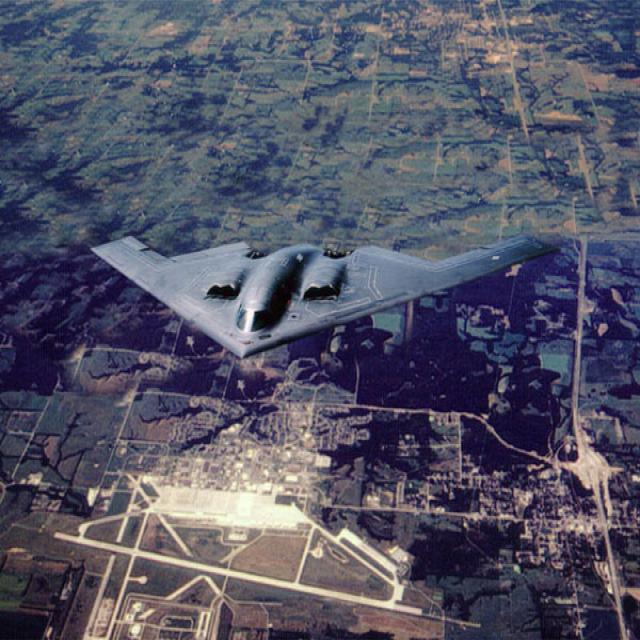MIL_Plane: (97, 232, 555, 360)
